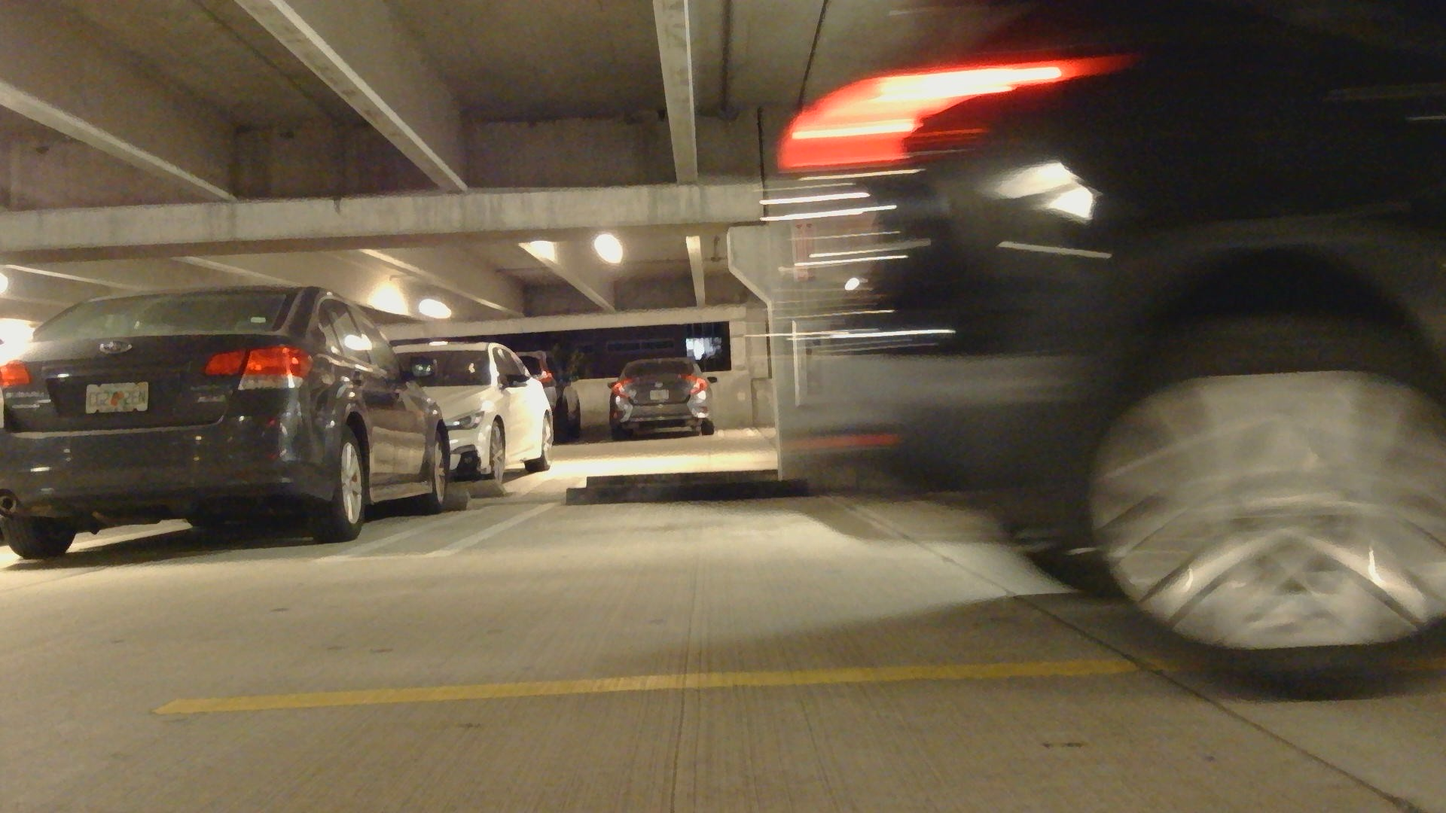empty_spot: (451, 497, 883, 558)
occupied_spot: (0, 274, 452, 568)
